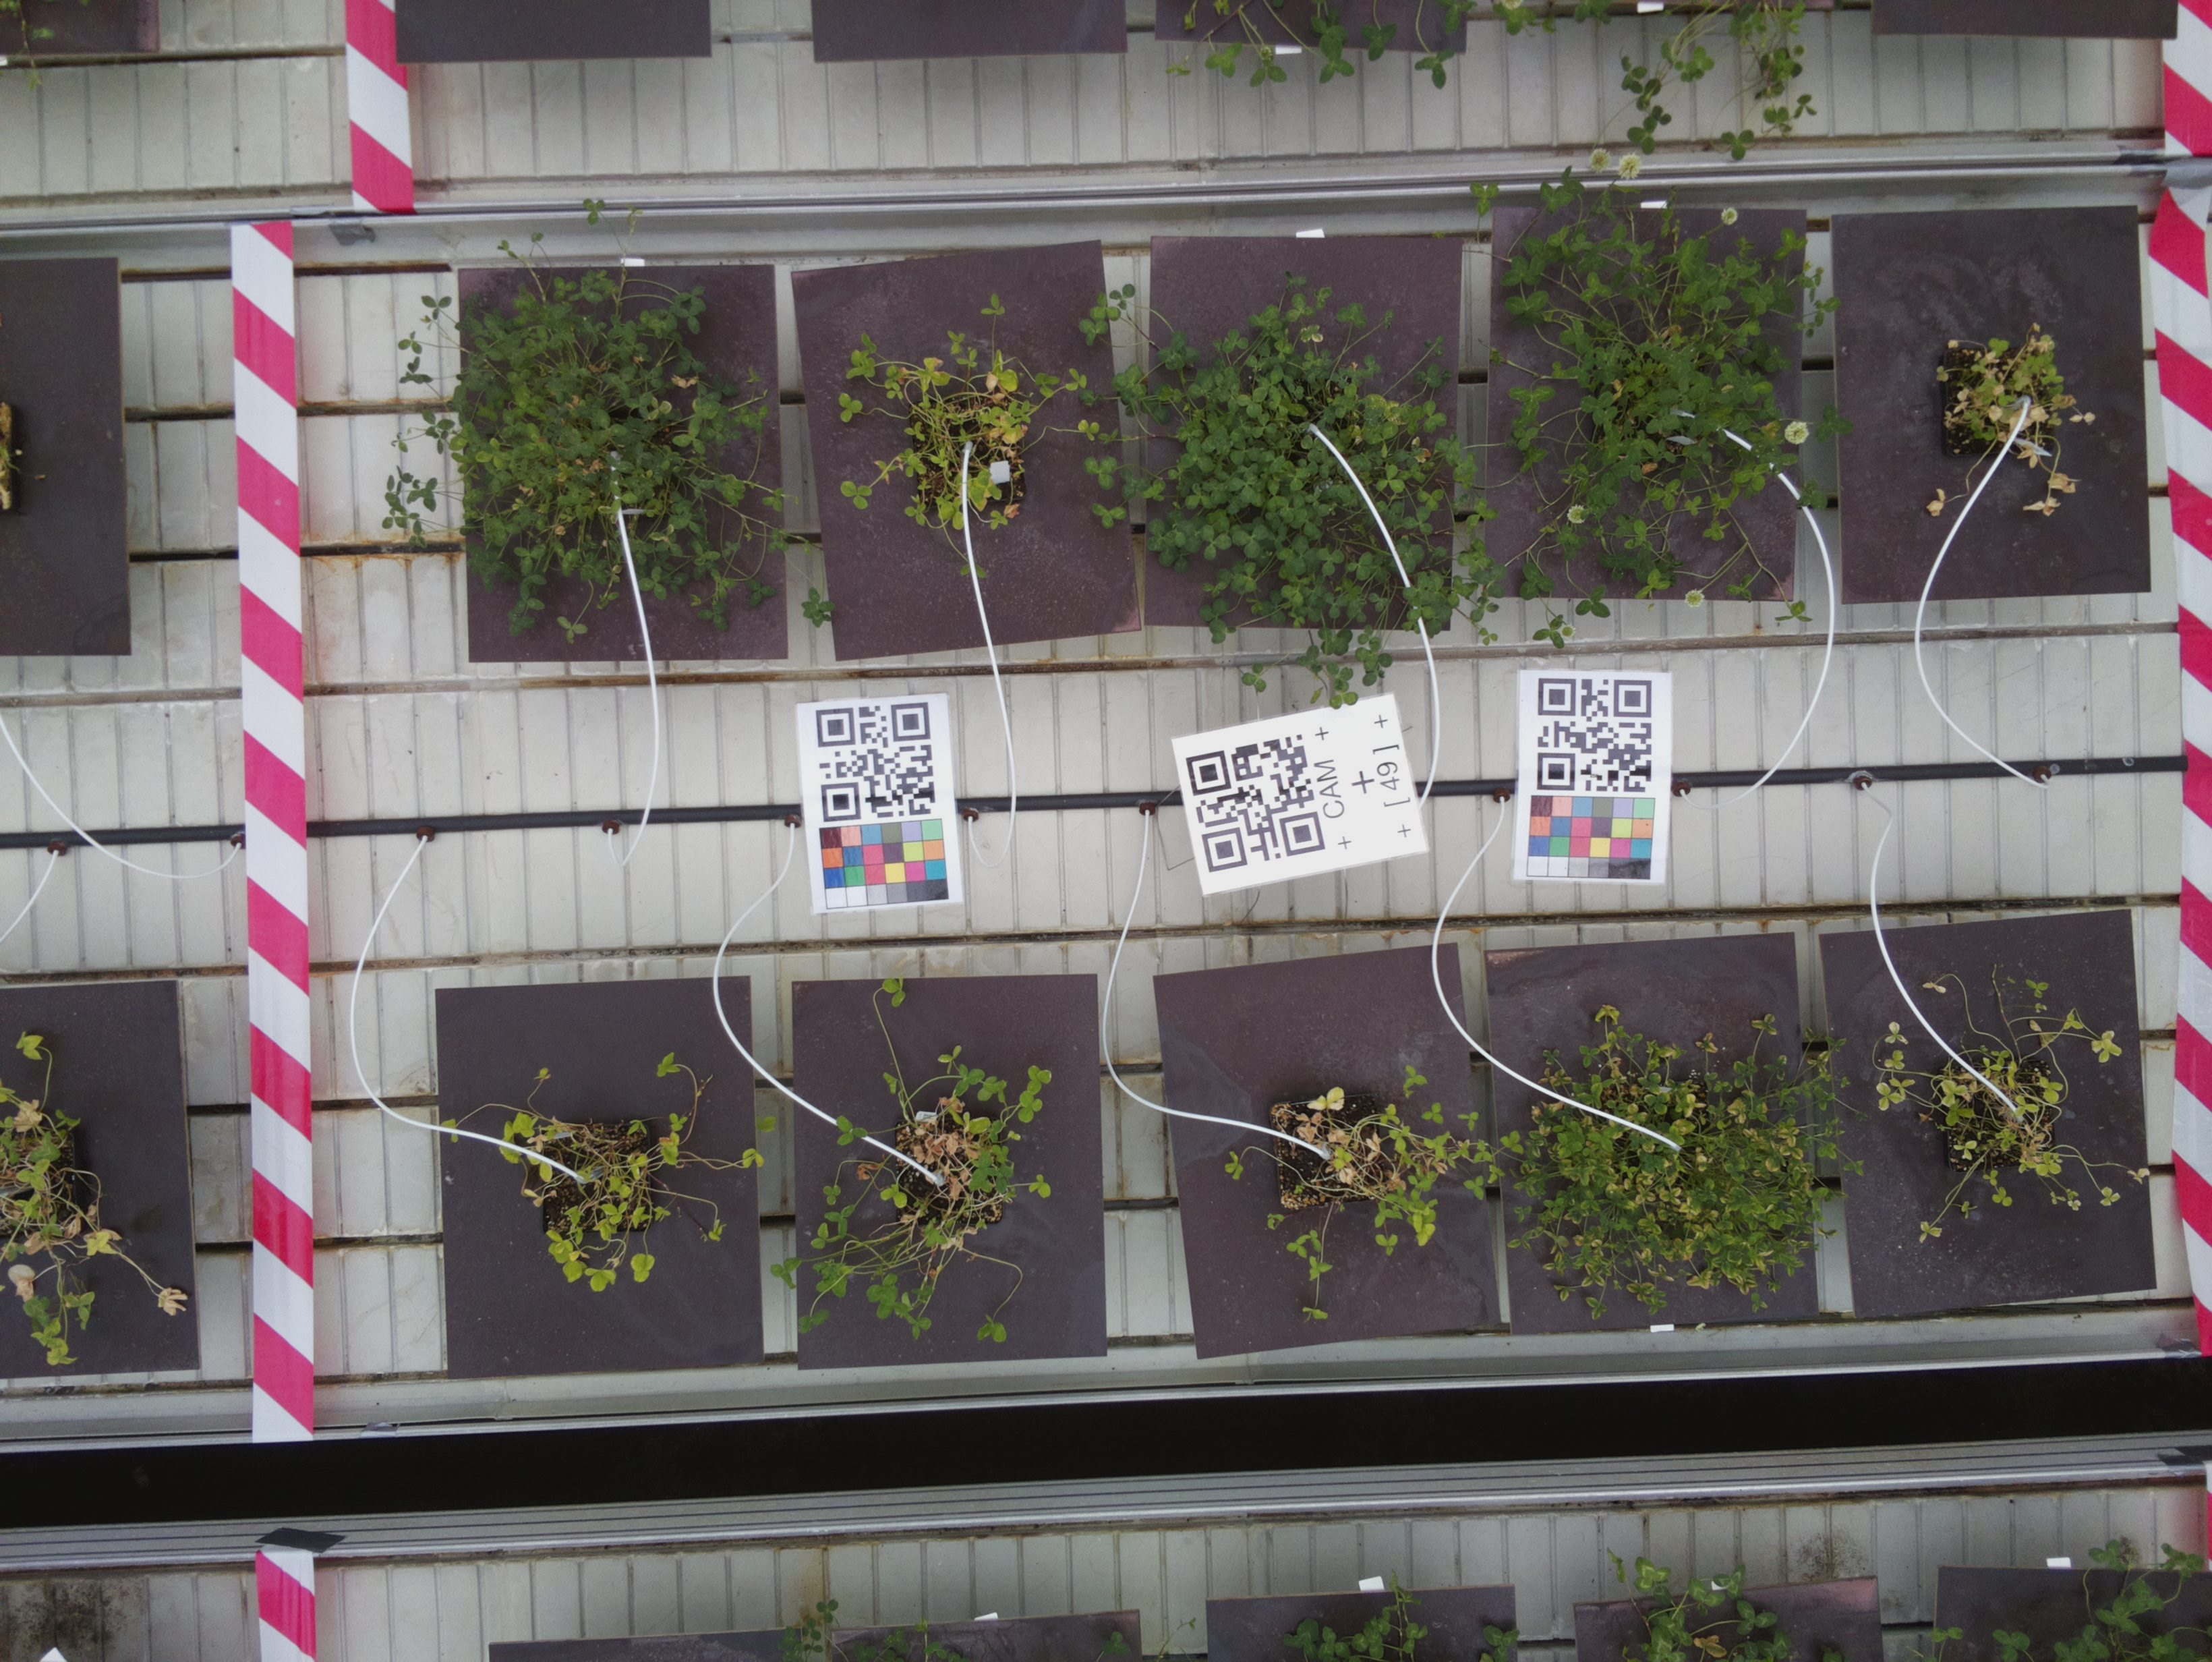POT: (1482, 937, 1835, 1336), (1817, 924, 2165, 1318), (784, 262, 1145, 641), (449, 264, 791, 663), (1149, 958, 1493, 1344), (789, 976, 1114, 1372), (1491, 206, 1809, 606), (431, 985, 761, 1365), (1135, 232, 1446, 635), (1826, 211, 2147, 601)
QRCODE: (1163, 700, 1433, 894)
QRCOLOR: (794, 700, 958, 911), (1515, 665, 1667, 882)
